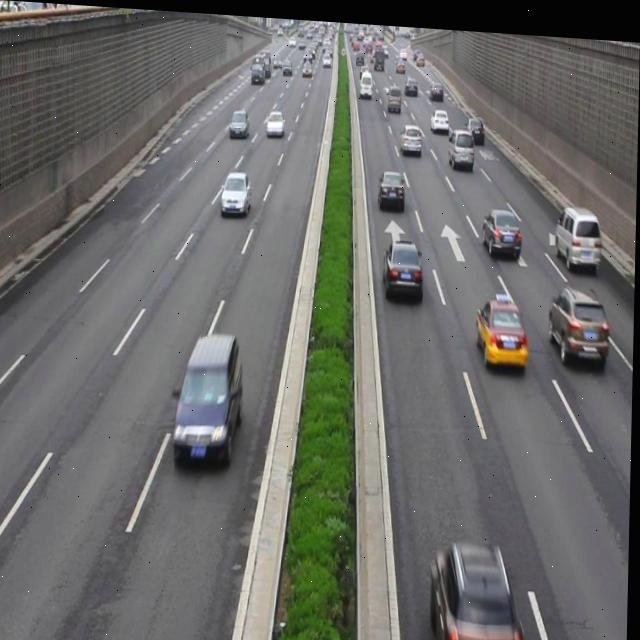car: (430, 535, 527, 640), (548, 276, 608, 358), (478, 290, 529, 364), (383, 231, 422, 295), (484, 201, 520, 250), (221, 167, 251, 212), (378, 163, 406, 205), (449, 121, 473, 162), (401, 117, 421, 149), (229, 105, 249, 136), (265, 106, 284, 133), (466, 109, 484, 137)
truck: (176, 329, 244, 460), (555, 195, 602, 262)
